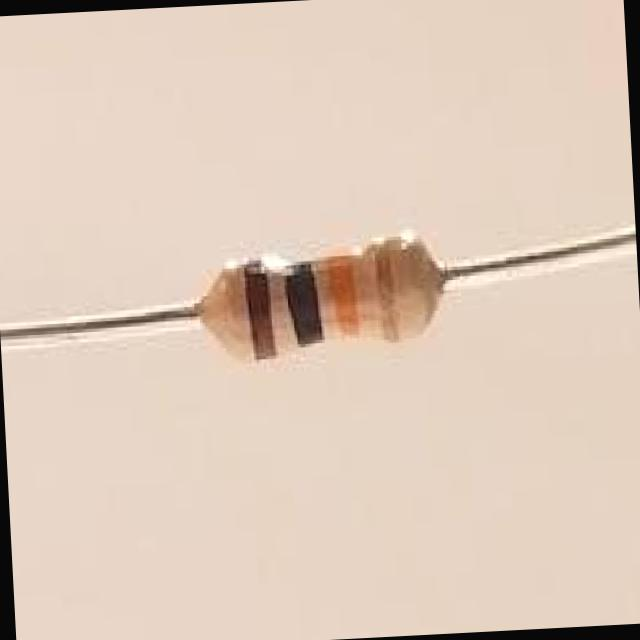Resistor: (197, 229, 462, 360)
black: (285, 262, 324, 345)
brown: (246, 261, 275, 360)
gold: (375, 239, 400, 342)
orange: (329, 254, 362, 343)
